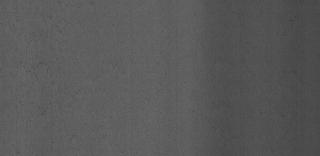silk spot: (21, 12, 90, 124)
